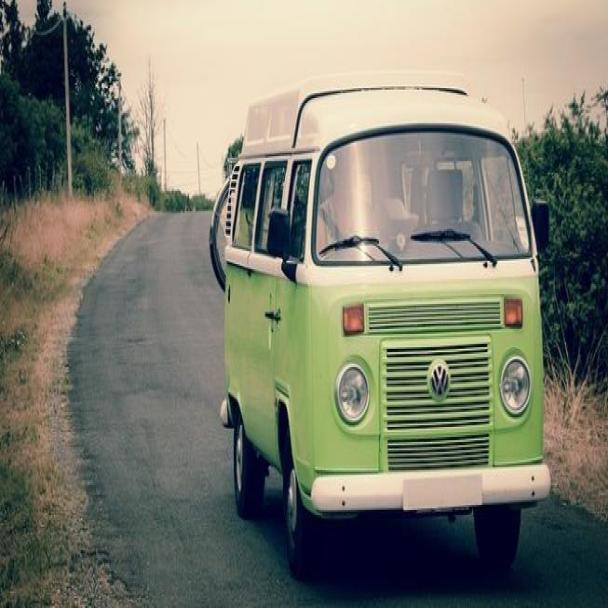Mobil: (221, 90, 544, 581)
